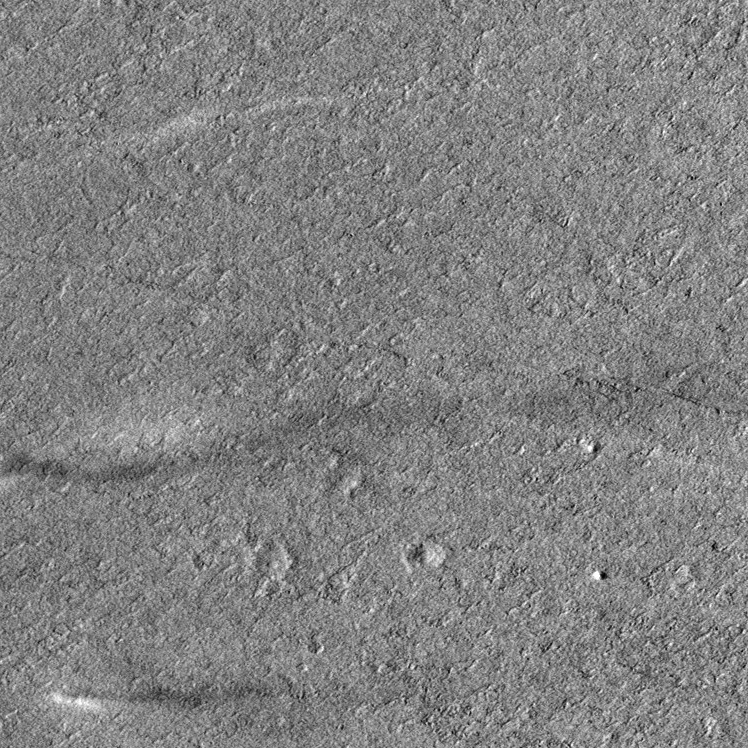dust_devil: (45, 684, 205, 715)
